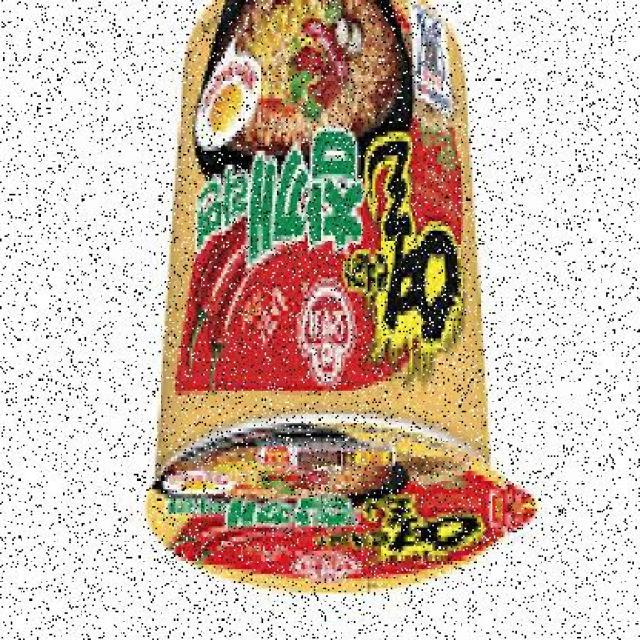Miscellaneous: (162, 0, 496, 589)
